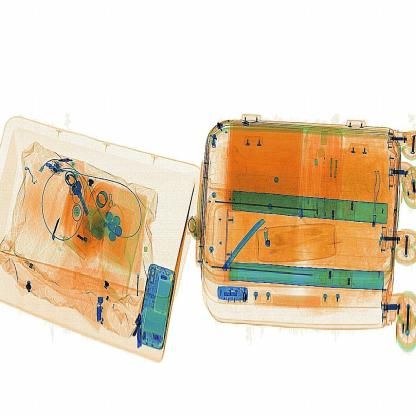pliers: (220, 205, 271, 282)
